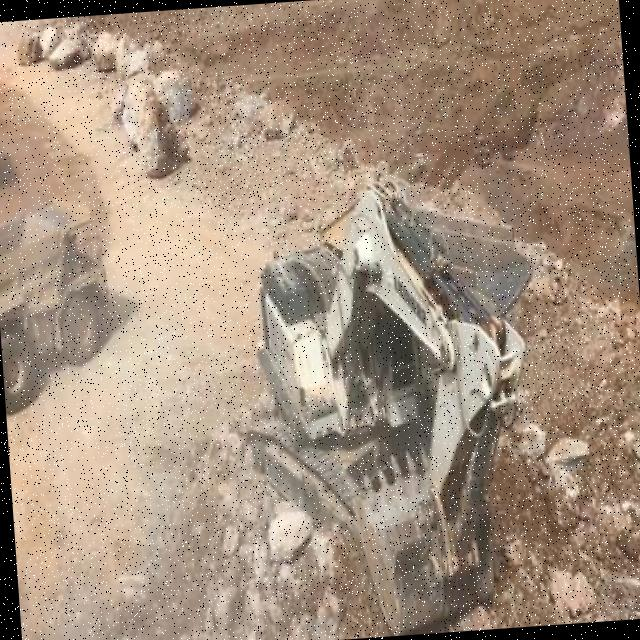Dump Truck: (0, 190, 116, 417), (0, 90, 24, 199)
Excavator: (218, 161, 546, 640)
